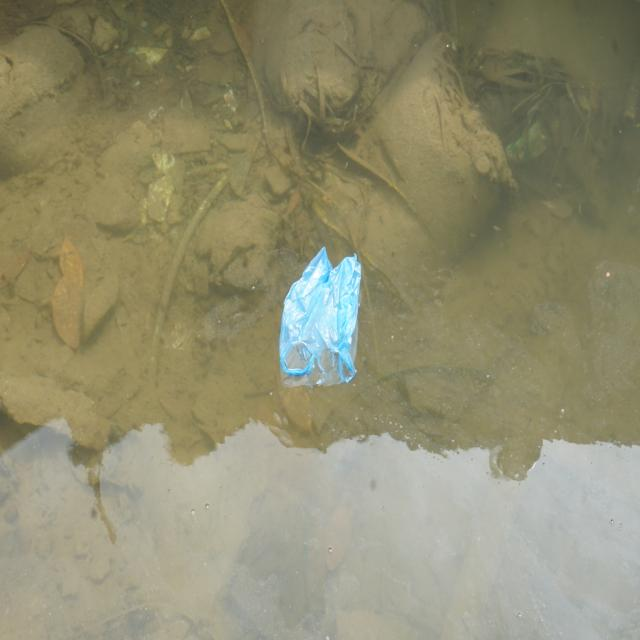Kantong Plastik: (279, 246, 365, 390)
